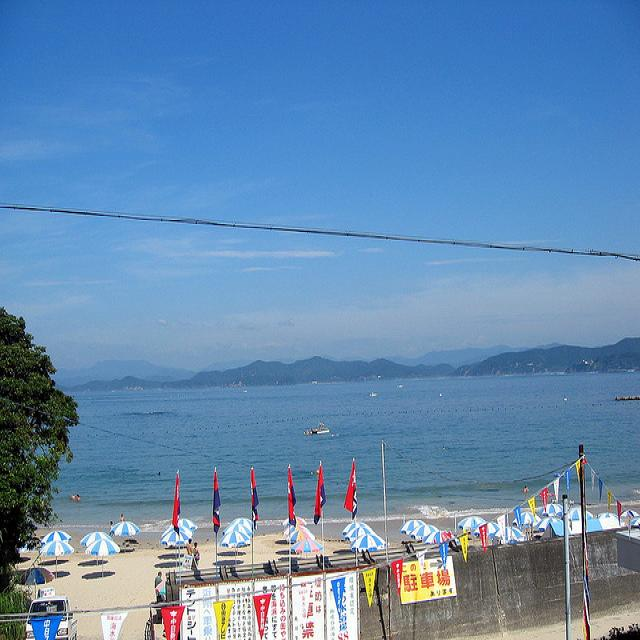Vehicle: (25, 596, 78, 640)
